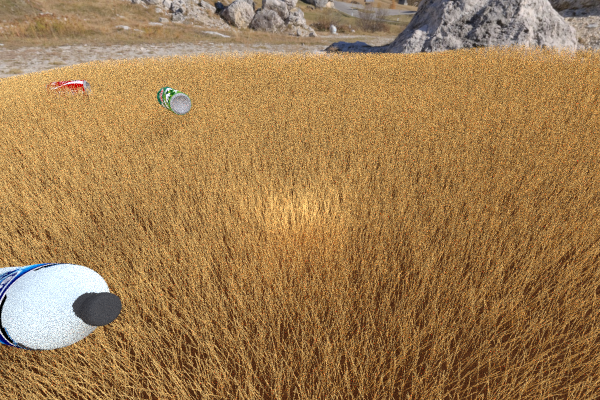Plastic Bottle: (0, 262, 121, 350), (45, 79, 92, 101), (156, 86, 191, 115)
